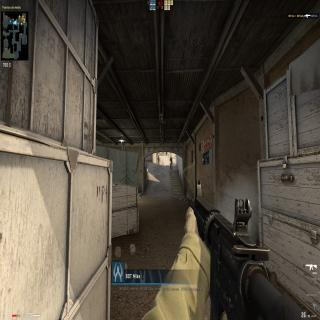T-Head: (170, 156, 172, 159), (158, 156, 159, 158)
